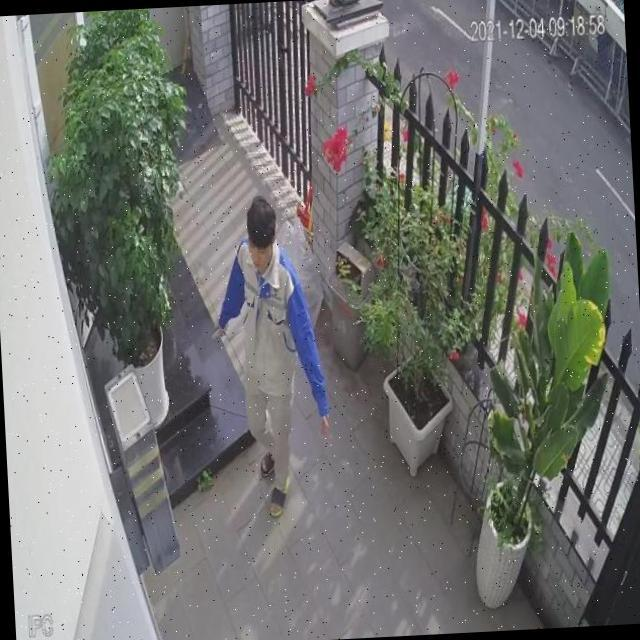person: (211, 194, 335, 524)
